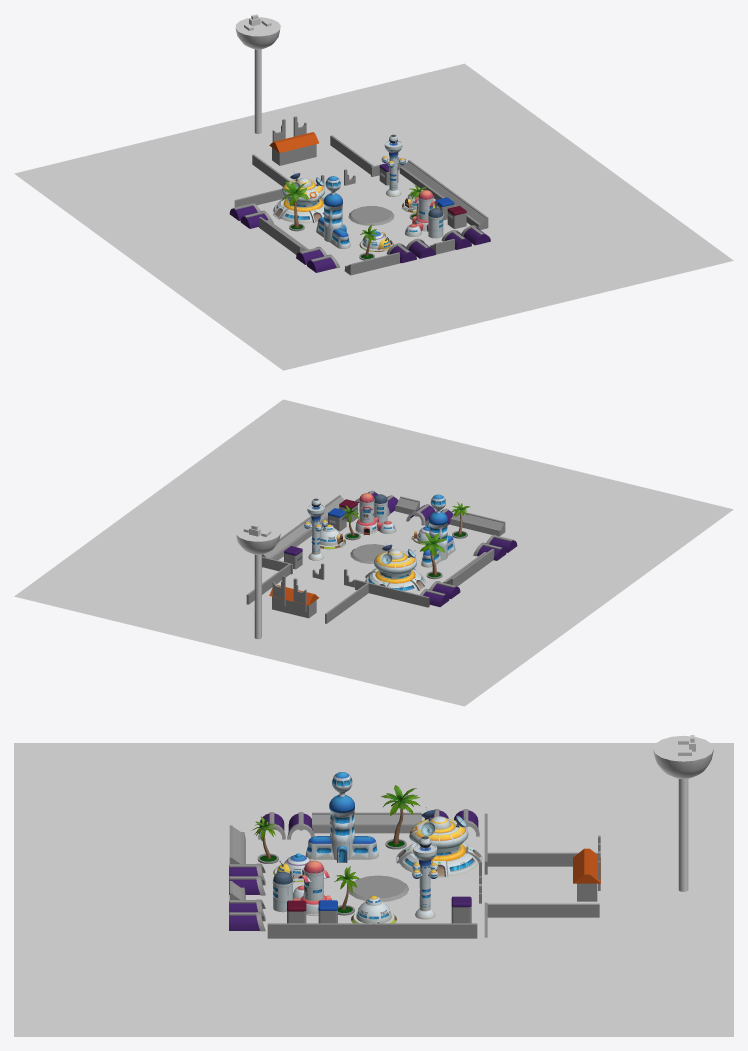
File: diqiuzhucheng.FBX
The picture shows the model from 3 angles, top to bottom: view 1: azimuth 30°, elevation 25°; view 2: azimuth 150°, elevation 25°; view 3: azimuth 270°, elevation 25°; orthographic projection. The views are drawn at different scales.
Visible parts, largest first — view 1: Plane002, Box024, diqiujianzhu_jiaonangbaihuo, diqiujianzhu_juntuan1, Sphere010, Cylinder004, Cylinder021, diqiujianzhu_cangku2, Box013, Box025, Box004, Box005 (+1 smaller); view 2: Plane002, diqiujianzhu_jiaonangbaihuo, diqiujianzhu_juntuan1, Box024, Sphere010, Box013, Box018, diqiujianzhu_juntuan2, diqiujianzhu_cangku1, Box006, Cylinder021, Box025 (+4 smaller); view 3: Plane002, Box024, diqiujianzhu_jiaonangbaihuo, diqiujianzhu_juntuan1, Sphere010, Box025, Box016, Box017, Cylinder021, diqiujianzhu_juntuan2, Cylinder004, diqiujianzhu_cangku1 (+11 smaller).
Part boxes in pixels (x1=…): Plane002: x1=14, y1=63, x2=733, y2=370; Box024: x1=399, y1=160, x2=488, y2=229; diqiujianzhu_jiaonangbaihuo: x1=316, y1=176, x2=350, y2=248; diqiujianzhu_juntuan1: x1=273, y1=172, x2=324, y2=223; Sphere010: x1=235, y1=17, x2=280, y2=49; Cylinder004: x1=348, y1=206, x2=394, y2=225; Cylinder021: x1=254, y1=49, x2=261, y2=133; diqiujianzhu_cangku2: x1=405, y1=208, x2=443, y2=238; Box013: x1=344, y1=252, x2=399, y2=275; Box025: x1=259, y1=217, x2=308, y2=254; Box004: x1=272, y1=144, x2=316, y2=165; Box005: x1=269, y1=132, x2=318, y2=152; Plane002: x1=14, y1=399, x2=733, y2=706; diqiujianzhu_jiaonangbaihuo: x1=421, y1=494, x2=455, y2=567; diqiujianzhu_juntuan1: x1=365, y1=544, x2=425, y2=592; Box024: x1=262, y1=495, x2=344, y2=560; Sphere010: x1=235, y1=522, x2=280, y2=554; Box013: x1=450, y1=511, x2=505, y2=536; Box018: x1=355, y1=579, x2=429, y2=607; diqiujianzhu_juntuan2: x1=374, y1=549, x2=416, y2=574; diqiujianzhu_cangku1: x1=355, y1=493, x2=377, y2=535; Box006: x1=272, y1=575, x2=306, y2=611; Cylinder021: x1=254, y1=554, x2=261, y2=639; Box025: x1=443, y1=549, x2=494, y2=586; Plane002: x1=14, y1=743, x2=733, y2=1036; Box024: x1=267, y1=923, x2=477, y2=938; diqiujianzhu_jiaonangbaihuo: x1=305, y1=772, x2=378, y2=862; diqiujianzhu_juntuan1: x1=396, y1=807, x2=482, y2=877; Sphere010: x1=653, y1=735, x2=713, y2=779; Box025: x1=312, y1=812, x2=421, y2=833; Box016: x1=487, y1=903, x2=599, y2=917; Box017: x1=486, y1=852, x2=597, y2=866; Cylinder021: x1=678, y1=779, x2=688, y2=891; diqiujianzhu_juntuan2: x1=409, y1=816, x2=468, y2=849; Cylinder004: x1=349, y1=875, x2=408, y2=901; diqiujianzhu_cangku1: x1=298, y1=860, x2=331, y2=915.
Bounding box in the file's own units: 18868 × 4695 × 19526.
